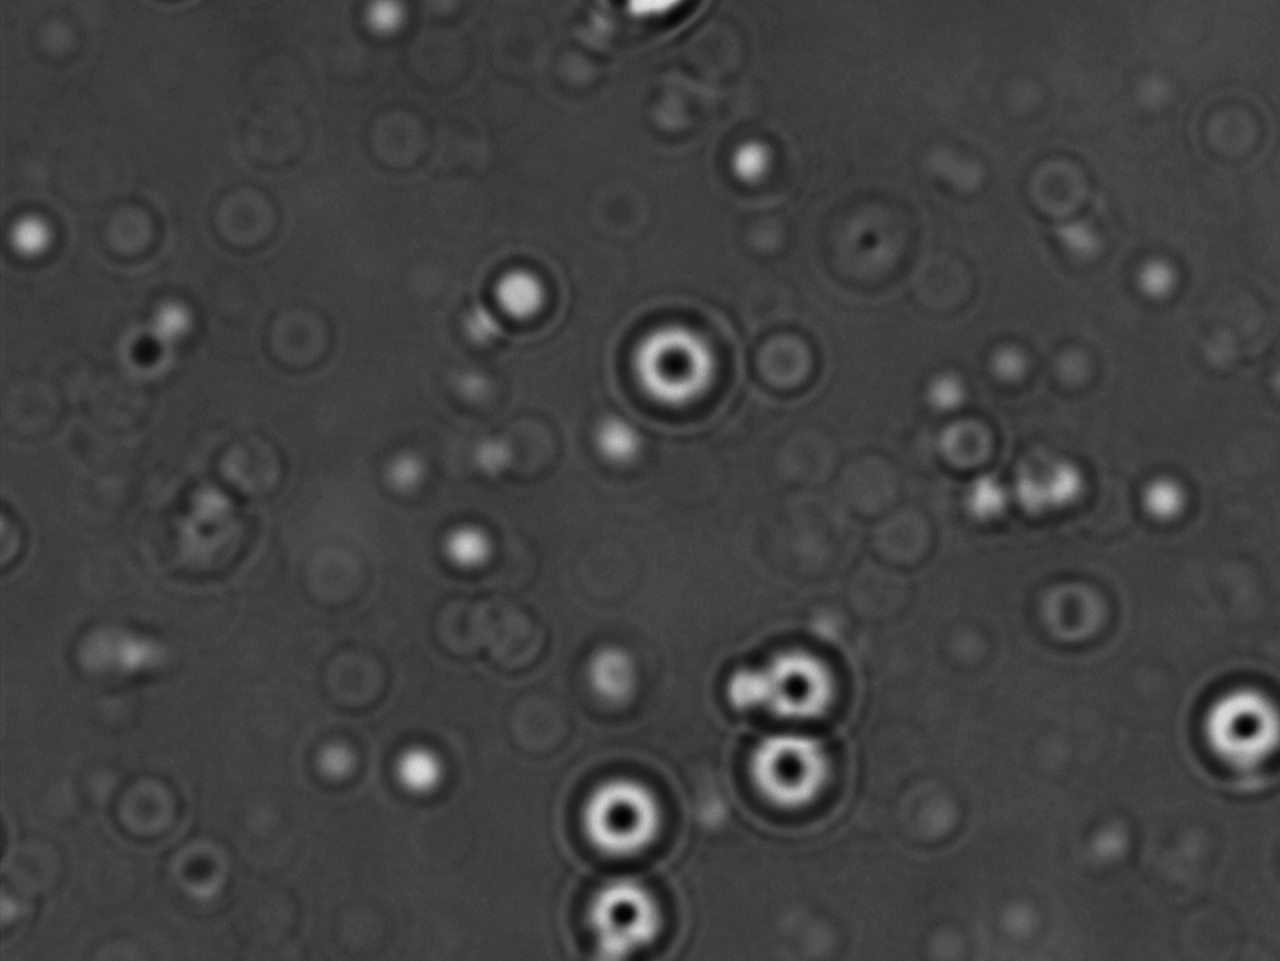depth:16: (607, 296, 752, 439), (546, 751, 700, 878), (727, 716, 871, 839), (730, 627, 868, 739), (558, 856, 699, 961), (1183, 657, 1280, 799)
